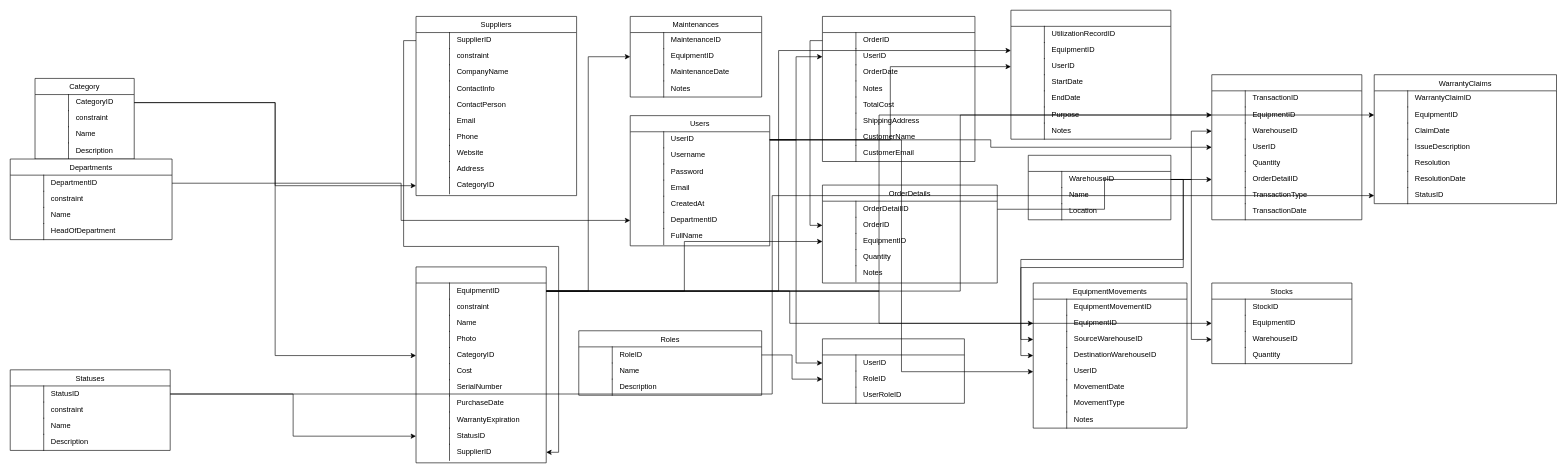
The diagram is 1567 pixels wide and 473 high, and some of its shapes have lost their labels. The box of each missing label's shape, as (x1, y1, x2, y2) in pixels:
Equipments: (415, 266, 546, 463)
Orders: (822, 16, 975, 162)
Transactions: (1211, 74, 1362, 220)
UserRoles: (822, 338, 964, 403)
UtilizationRecords: (1010, 10, 1171, 139)
Warehouses: (1028, 155, 1171, 220)
